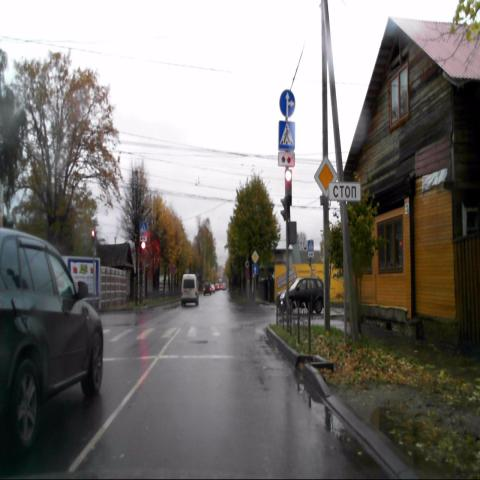8_15: (278, 151, 295, 166)
